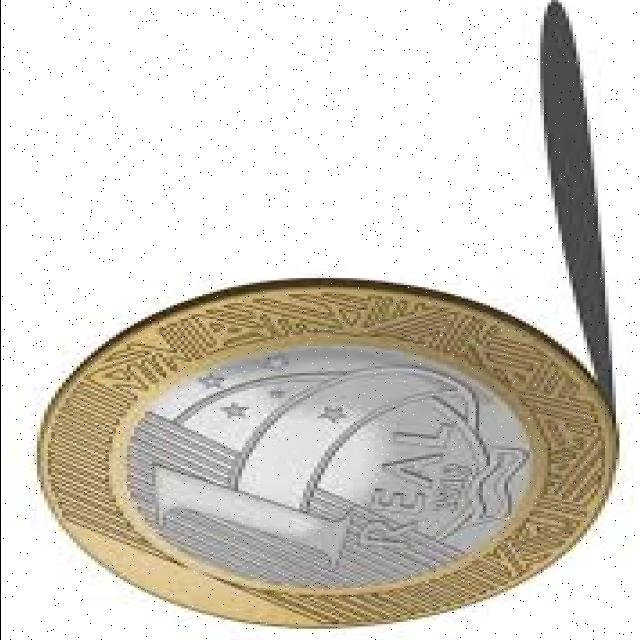1 real: (35, 276, 611, 628)
